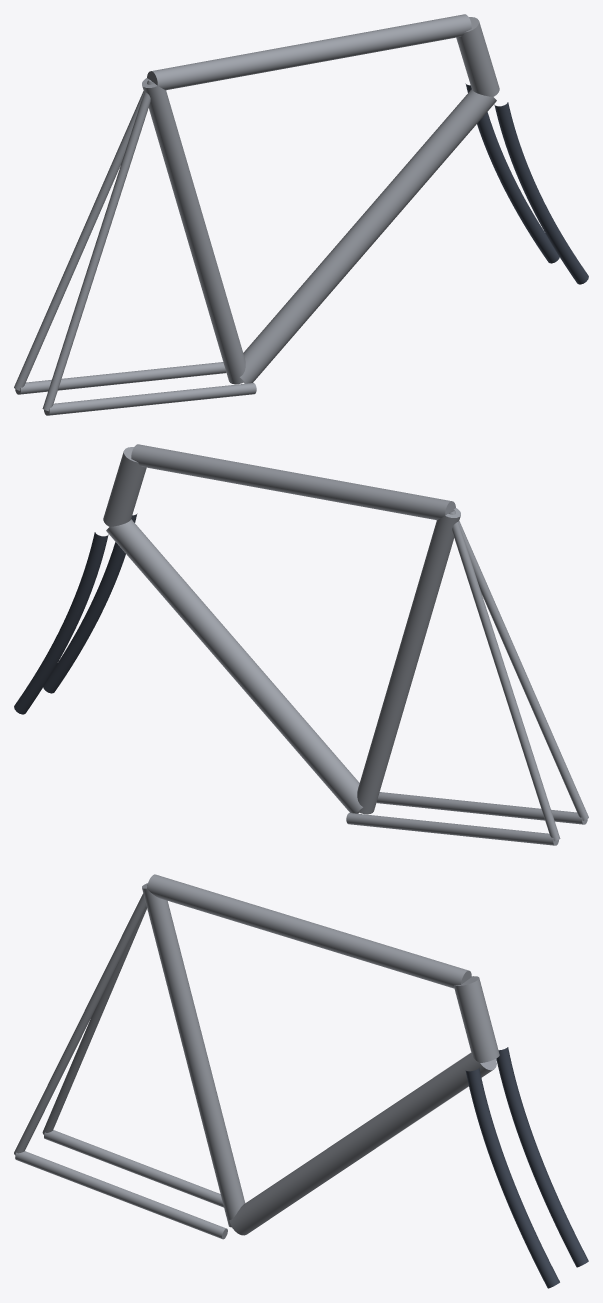
File: cinelli-vigorelli-rainbow-m.glb
3 views of the same model, one above another, from view 1: azimuth 30°, elevation 25°; view 2: azimuth 150°, elevation 25°; view 3: azimuth 330°, elevation 25° (orthographic).
Visible parts, largest first — view 1: paint_down, paint_top, paint_seat, paint_seatstay_0.045, fork_0.045, paint_seatstay_-0.045, paint_chainstay_0.045, paint_chainstay_-0.045, fork_-0.045, paint_head; view 2: paint_down, paint_top, paint_seat, paint_seatstay_-0.045, fork_-0.045, paint_seatstay_0.045, paint_chainstay_-0.045, paint_chainstay_0.045, fork_0.045, paint_head; view 3: paint_down, paint_seat, paint_top, fork_0.045, fork_-0.045, paint_chainstay_0.045, paint_seatstay_0.045, paint_head, paint_chainstay_-0.045, paint_seatstay_-0.045.
Boxes of the visible parts, x1,y1,x2,y2 form: paint_down: [240, 89, 496, 383]; paint_top: [147, 14, 471, 90]; paint_seat: [142, 78, 245, 384]; paint_seatstay_0.045: [42, 81, 154, 411]; fork_0.045: [494, 102, 588, 284]; paint_seatstay_-0.045: [14, 79, 151, 390]; paint_chainstay_0.045: [44, 383, 256, 415]; paint_chainstay_-0.045: [15, 362, 226, 394]; fork_-0.045: [465, 83, 559, 263]; paint_head: [456, 17, 499, 96]; paint_down: [106, 519, 362, 813]; paint_top: [131, 444, 455, 520]; paint_seat: [357, 508, 460, 814]; paint_seatstay_-0.045: [448, 511, 560, 841]; fork_-0.045: [14, 532, 108, 714]; paint_seatstay_0.045: [451, 509, 588, 820]; paint_chainstay_-0.045: [346, 813, 558, 845]; paint_chainstay_0.045: [376, 792, 587, 824]; fork_0.045: [43, 513, 137, 693]; paint_head: [103, 447, 146, 526]; paint_down: [229, 1053, 496, 1235]; paint_seat: [142, 883, 245, 1227]; paint_top: [147, 874, 471, 988]; fork_0.045: [465, 1068, 559, 1288]; fork_-0.045: [496, 1047, 588, 1267]; paint_chainstay_0.045: [15, 1151, 227, 1239]; paint_seatstay_0.045: [14, 885, 147, 1155]; paint_head: [454, 976, 499, 1062]; paint_chainstay_-0.045: [44, 1130, 223, 1207]; paint_seatstay_-0.045: [42, 907, 146, 1134].
Size of the model in its own units: 0.9837 by 0.5807 by 0.112.
